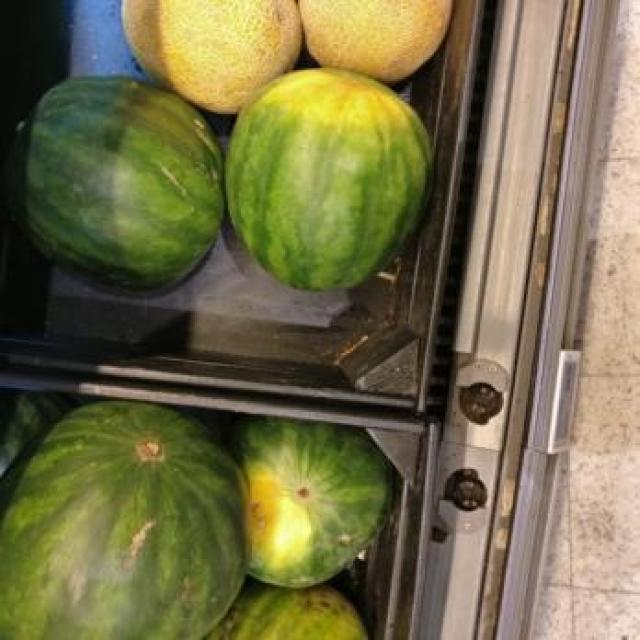Cantaloupe: (120, 0, 300, 112), (302, 0, 454, 83)
Watermelon: (0, 403, 254, 638), (222, 70, 436, 290), (15, 74, 228, 288), (237, 421, 392, 587)
